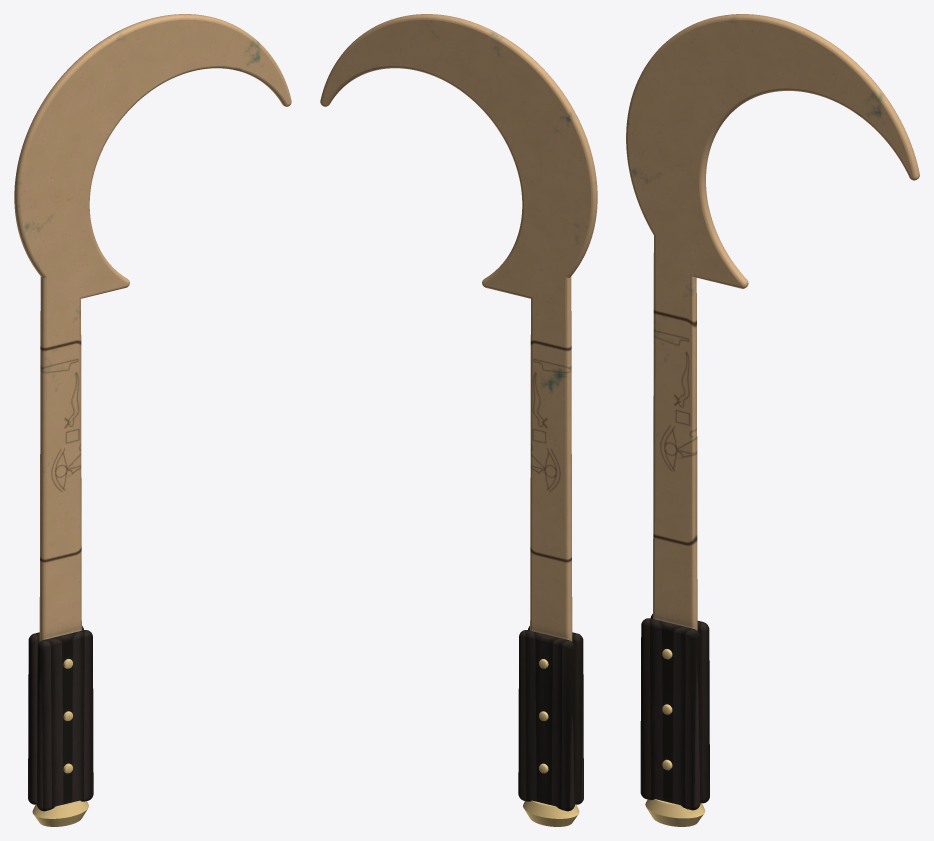
The model's file is khopesh.glb.
3 renders of one model, left to right at view 1: azimuth 30°, elevation 25°; view 2: azimuth 150°, elevation 25°; view 3: azimuth 330°, elevation 25°, orthographic. The views are drawn at different scales.
Visible parts, largest first — view 1: khopesh; view 2: khopesh; view 3: khopesh.
Part boxes in pixels (x1=…): khopesh: x1=14, y1=14, x2=291, y2=826; khopesh: x1=320, y1=14, x2=597, y2=826; khopesh: x1=626, y1=14, x2=919, y2=826.
Size of the model in its own units: 0.2202 by 0.5944 by 0.0294.
1 material, 1 textured.
